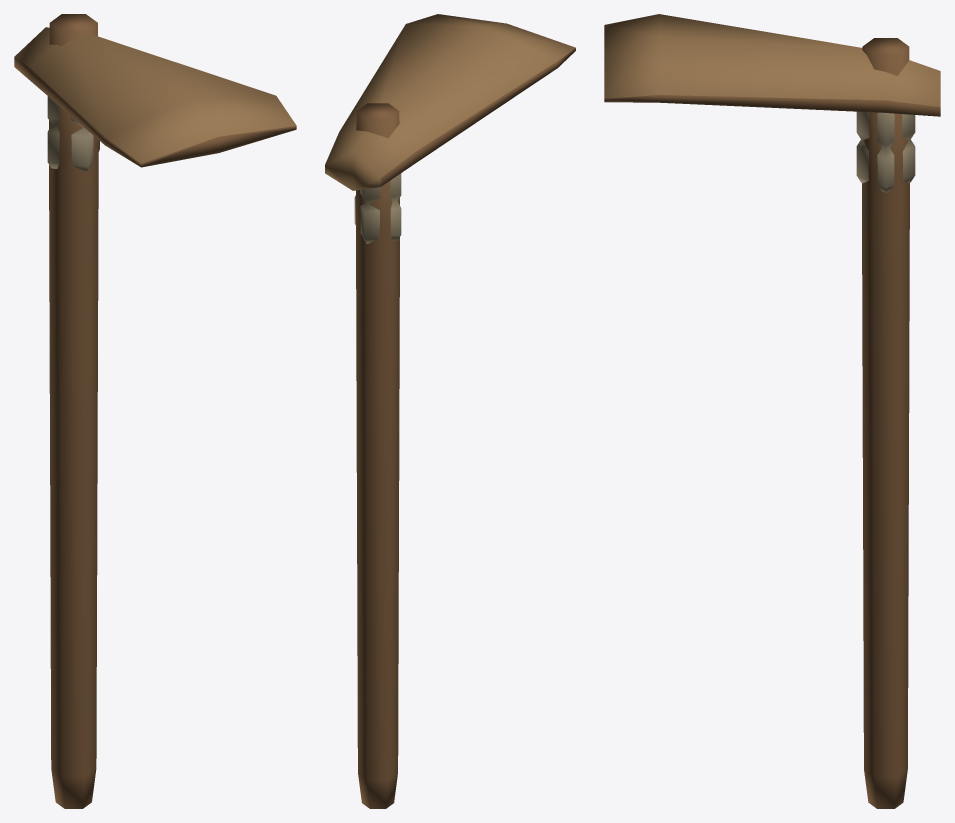
Rendered from wooden_hoe_lod1.glb.
The picture shows the model from 3 angles, left to right: view 1: azimuth 30°, elevation 25°; view 2: azimuth 150°, elevation 25°; view 3: azimuth 270°, elevation 25°; orthographic projection. The views are drawn at different scales.
Parts seen in each view (by area): view 1: wooden_hoe_lod1; view 2: wooden_hoe_lod1; view 3: wooden_hoe_lod1.
Part boxes in pixels (<box>): wooden_hoe_lod1: <box>14,14,296,808</box>; wooden_hoe_lod1: <box>325,14,575,808</box>; wooden_hoe_lod1: <box>604,14,940,808</box>.
Bounding box in the file's own units: 0.262 × 1.15 × 0.46.
